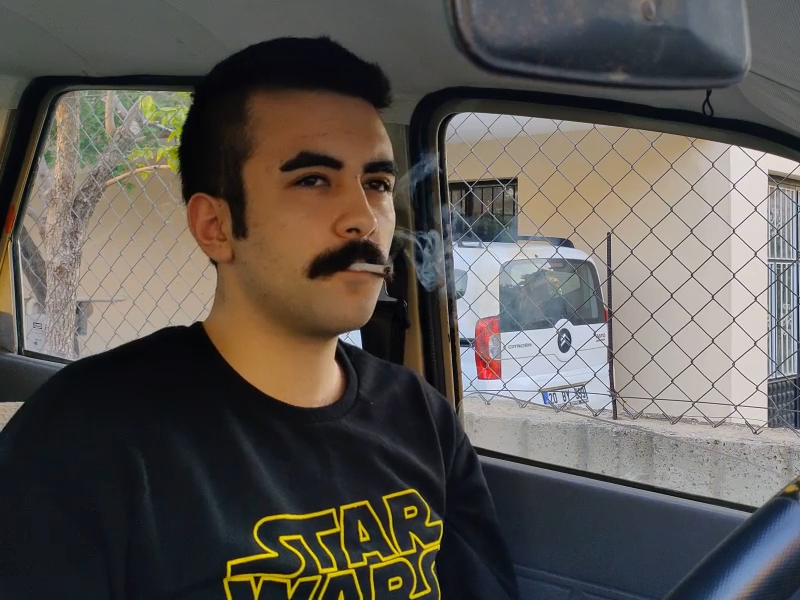sigara: (345, 258, 396, 280)
